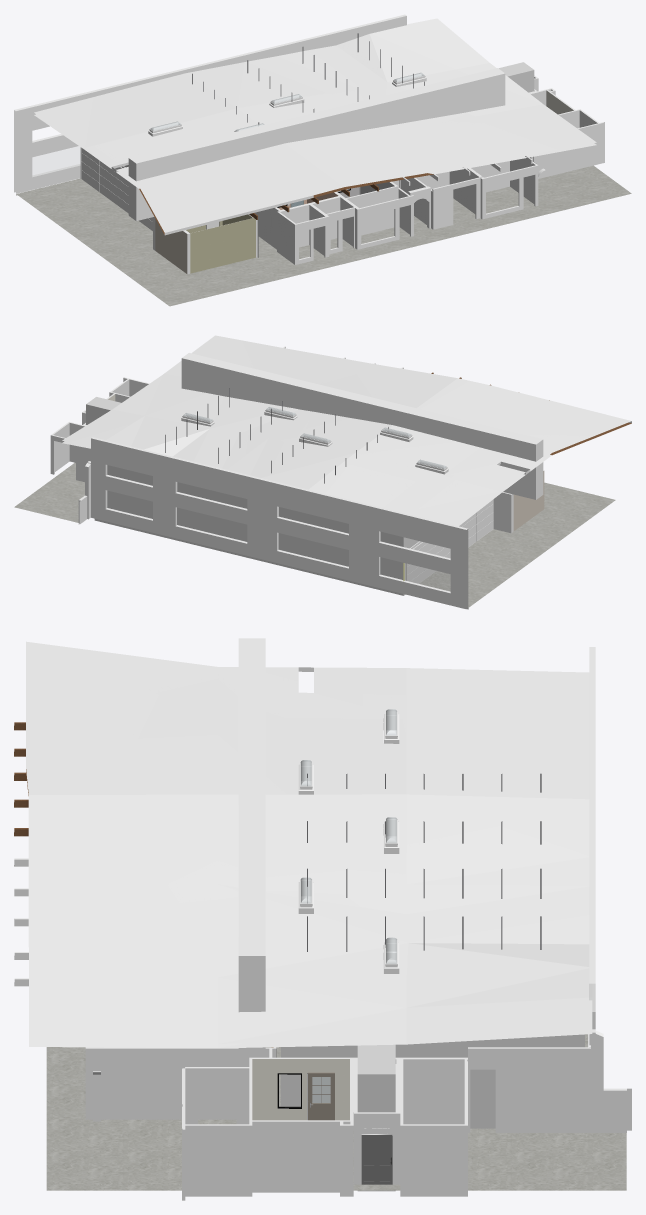
File: large_hub_01.glb
3 views of the same model, one above another, from view 1: azimuth 30°, elevation 25°; view 2: azimuth 150°, elevation 25°; view 3: azimuth 270°, elevation 25° (orthographic). The views are drawn at different scales.
Visible parts, largest first — view 1: ceiling, main_wall, main_floor, Mesh1294 Group8 Model, windows_wall, available_moving_area.001; view 2: ceiling, windows_wall, Mesh1294 Group8 Model, main_floor, available_moving_area, main_wall, wall, available_moving_area.001; view 3: ceiling, main_wall, main_floor, windows_wall, wall, Mesh1294 Group8 Model, available_moving_area, available_moving_area.001, hub_entrence.001_hub_door.001_hub_entrence.001_hub_door.001, Mesh2938 Deur_met_glas_1_1 G_2025_0618_Schoolhouse_com_dwg1 , Mesh2695 RS_Sidelight___GLAZING_G1_9061200__3D_1 G_2025_0618.
Boxes of the visible parts, x1,y1,x2,y2 form: ceiling: (34,18,596,235); main_wall: (153,88,604,274); main_floor: (16,165,631,306); Mesh1294 Group8 Model: (128,68,505,221); windows_wall: (14,14,406,193); available_moving_area.001: (498,62,534,92); ceiling: (62,335,631,526); windows_wall: (78,437,468,609); Mesh1294 Group8 Model: (181,353,543,499); main_floor: (14,463,615,609); available_moving_area: (94,465,419,595); main_wall: (82,377,544,533); wall: (50,422,90,482); available_moving_area.001: (86,397,121,424); ceiling: (26,641,592,1048); main_wall: (85,1047,357,1200); main_floor: (46,1034,626,1190); windows_wall: (468,647,631,1133); wall: (353,1057,467,1196); Mesh1294 Group8 Model: (238,638,265,1057); available_moving_area: (281,781,584,1128); available_moving_area.001: (357,1044,395,1191); hub_entrence.001_hub_door.001_hub_entrence.001_hub_door.001: (361,1135,392,1184); Mesh2938 Deur_met_glas_1_1 G_2025_0618_Schoolhouse_com_dwg1 : (308,1072,334,1120); Mesh2695 RS_Sidelight___GLAZING_G1_9061200__3D_1 G_2025_0618: (277,1073,307,1108).
Size of the model in its own units: 1528 by 310 by 957.
Materials: 51 (15 with a texture image).
